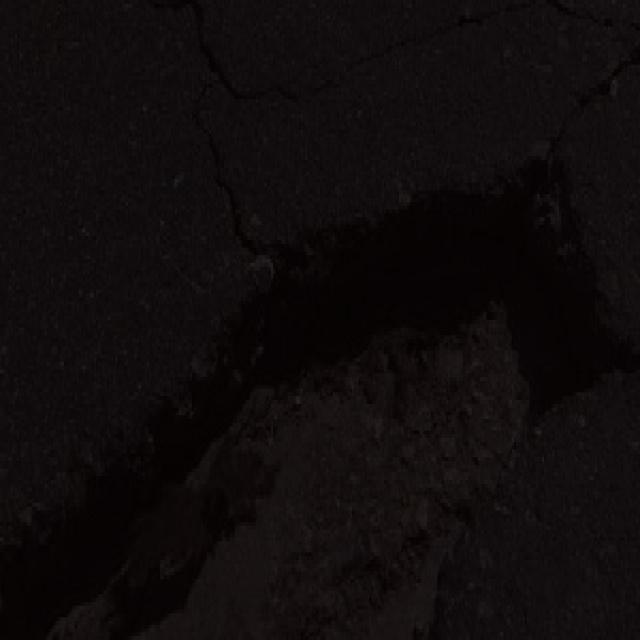Pothole: (0, 135, 637, 640)
